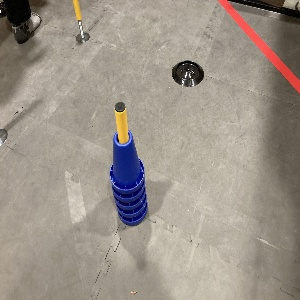Blue_5: (109, 130, 148, 224)
